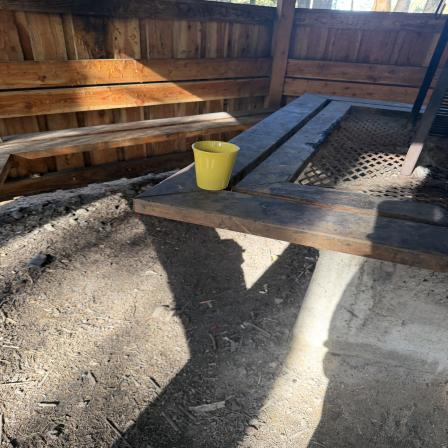yellow_cup: (192, 136, 241, 193)
